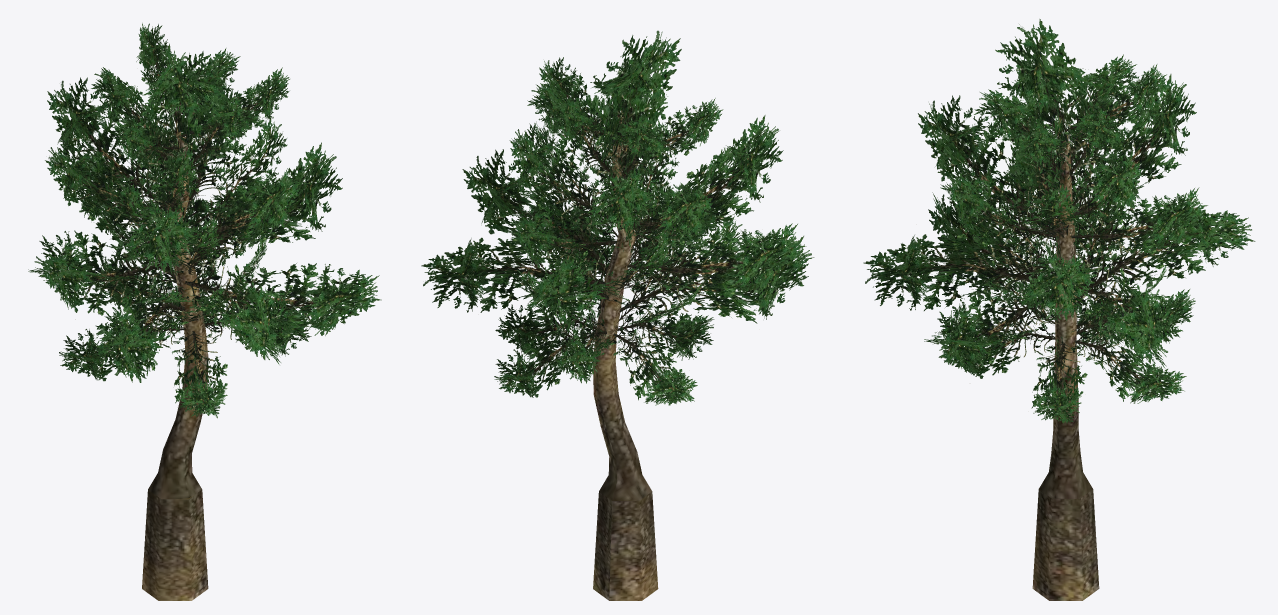
File: flora-trees-aleppo-pine.glb
3 views of the same model, side by side, from view 1: azimuth 30°, elevation 25°; view 2: azimuth 150°, elevation 25°; view 3: azimuth 270°, elevation 25° (orthographic). The views are drawn at different scales.
Parts seen in each view (by area): view 1: Plane_106; view 2: Plane_106; view 3: Plane_106.
Part boxes in pixels (x1,y1,x2,y2): Plane_106: (28,23,381,600); Plane_106: (421,30,814,600); Plane_106: (863,19,1255,600).
Bounding box in the file's own units: 6.05 × 9.65 × 6.28.
Materials: 1 (1 with a texture image).
